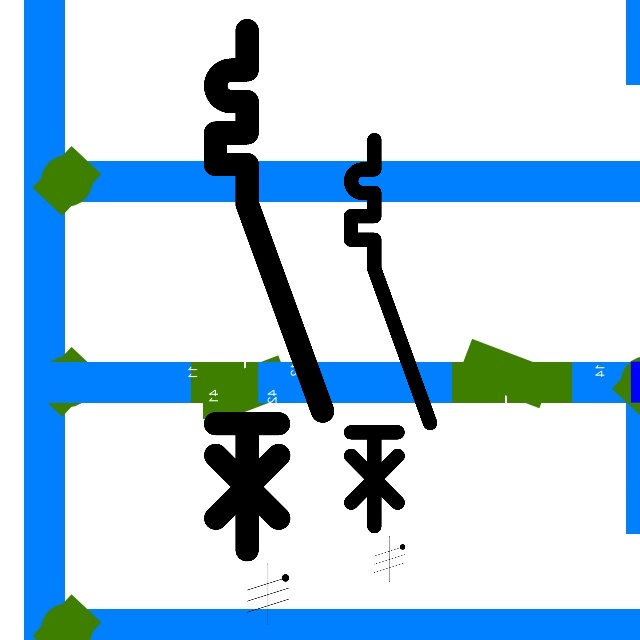interruptor_termomagnetico: (202, 17, 335, 563), (341, 130, 440, 536)
